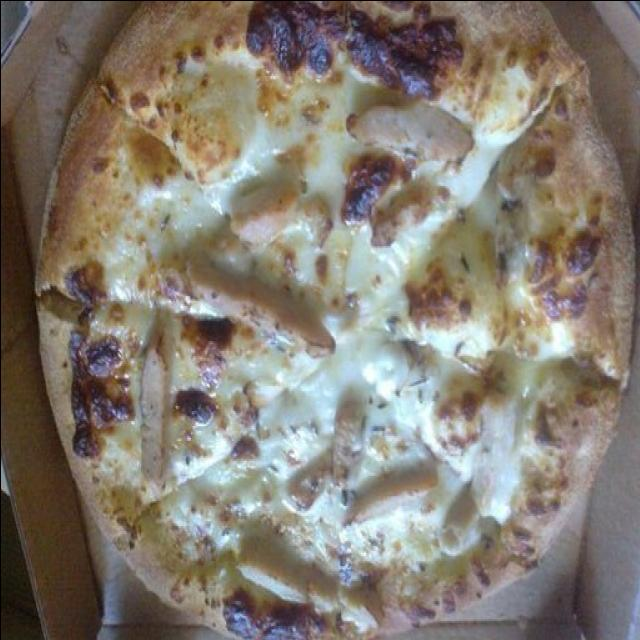pizza: (32, 0, 634, 640)
